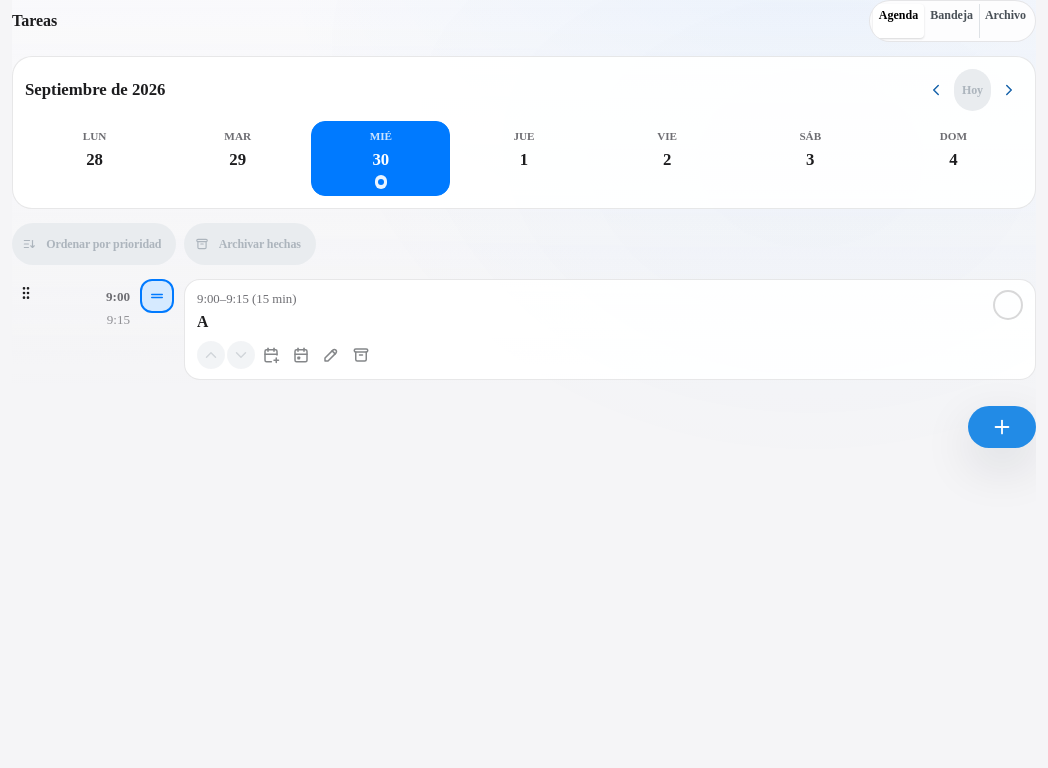
Test: Agenda de días › mover de día › Mover a mañana
This screenshot has width=1048, height=768.
Click the button named "Mover a mañana: A" at (271, 354), box [257,340,285,368]
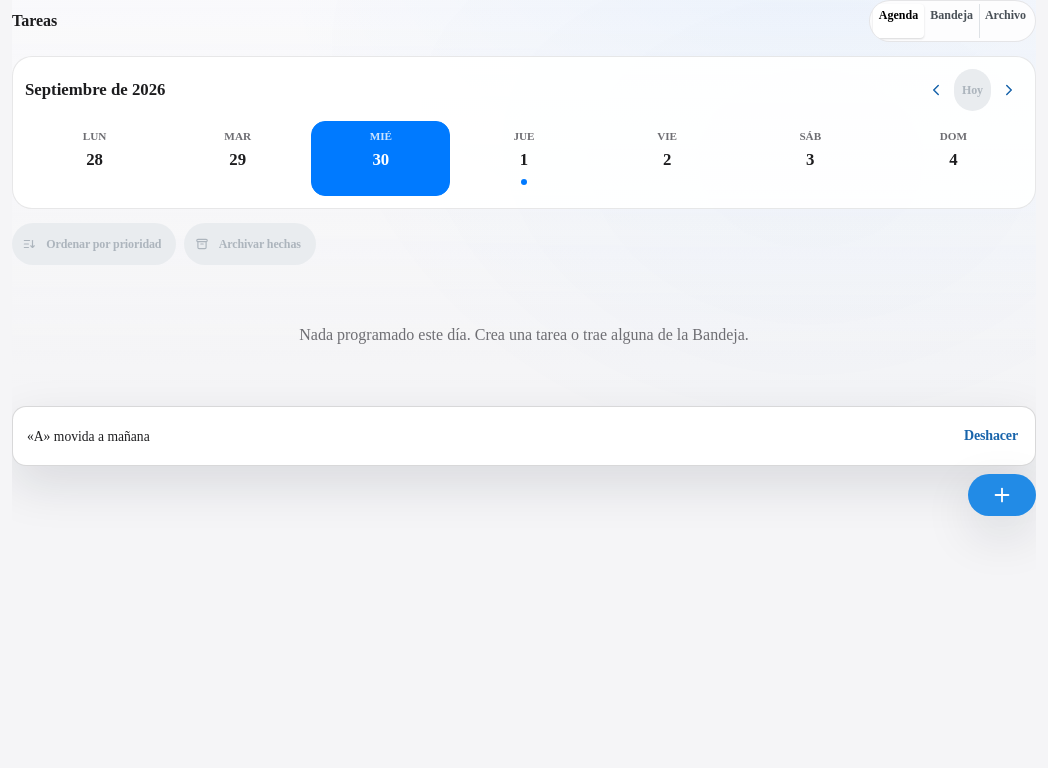
Expected: the text "«A» movida a mañana" is shown, [27,426,150,447]
